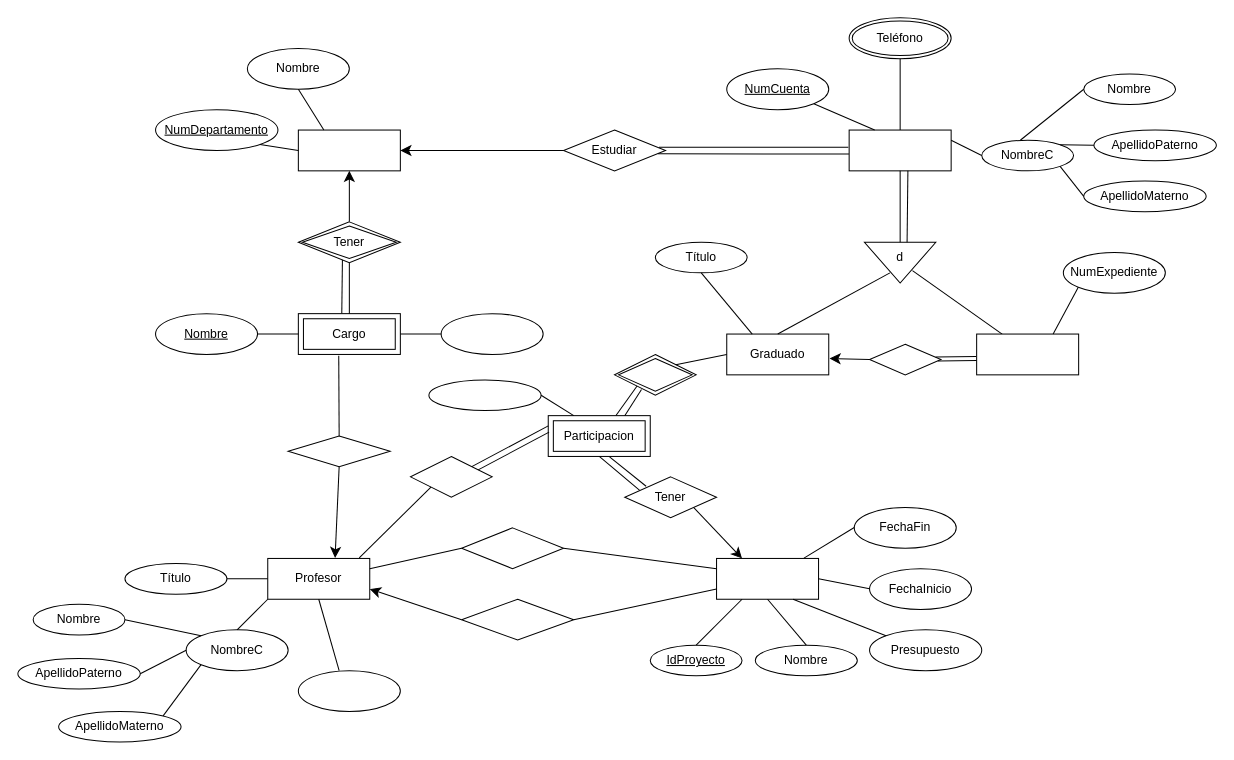
The diagram is 1234 pixels wide and 760 high, and some of its shapes have lost their labels. Here are the shapes that lost their labels. From the top down, the centre of each, then its label:
At pixel 348 150: "Departamento".
At pixel 899 150: "Alumno".
At pixel 491 333: "Carga horaria".
At pixel 655 374: "Realizar".
At pixel 905 359: "tutoría".
At pixel 1027 354: "NoGraduado".
At pixel 484 395: "NombreProyecto".
At pixel 338 451: "Ocupar".
At pixel 451 476: "supervisar".
At pixel 512 548: "Administar".
At pixel 767 578: "Proyecto".
At pixel 517 619: "Trabajar".
At pixel 348 690: "IdProfesor".
